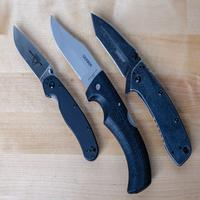knife: (9, 7, 192, 187)
